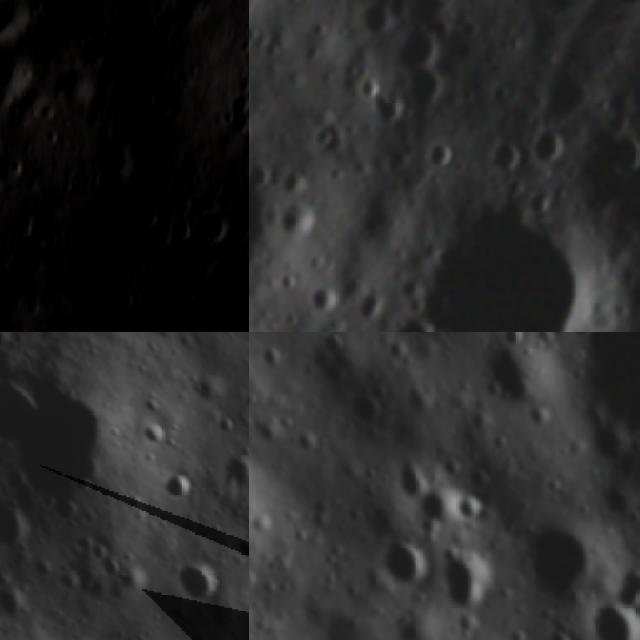crater: (373, 178, 629, 332), (511, 511, 608, 609), (249, 153, 313, 299), (370, 530, 441, 602), (431, 542, 498, 614), (390, 56, 459, 125), (436, 467, 502, 535), (390, 17, 452, 81), (573, 582, 640, 640), (600, 364, 640, 455), (339, 379, 397, 438), (165, 552, 222, 610), (540, 75, 597, 132), (516, 124, 572, 182), (592, 118, 640, 183), (479, 129, 533, 183), (249, 335, 299, 390), (298, 271, 349, 324), (350, 0, 403, 49), (0, 36, 36, 102), (279, 200, 326, 247), (250, 31, 296, 76), (374, 303, 445, 332), (187, 208, 234, 251), (516, 184, 561, 226), (249, 57, 272, 138), (349, 285, 391, 328), (163, 469, 205, 511), (135, 416, 174, 454), (0, 0, 32, 45), (12, 195, 40, 246), (168, 212, 200, 241), (229, 179, 249, 225), (212, 410, 242, 440), (98, 553, 126, 580), (144, 332, 183, 348), (491, 332, 531, 346), (249, 16, 262, 56), (560, 332, 602, 341)
